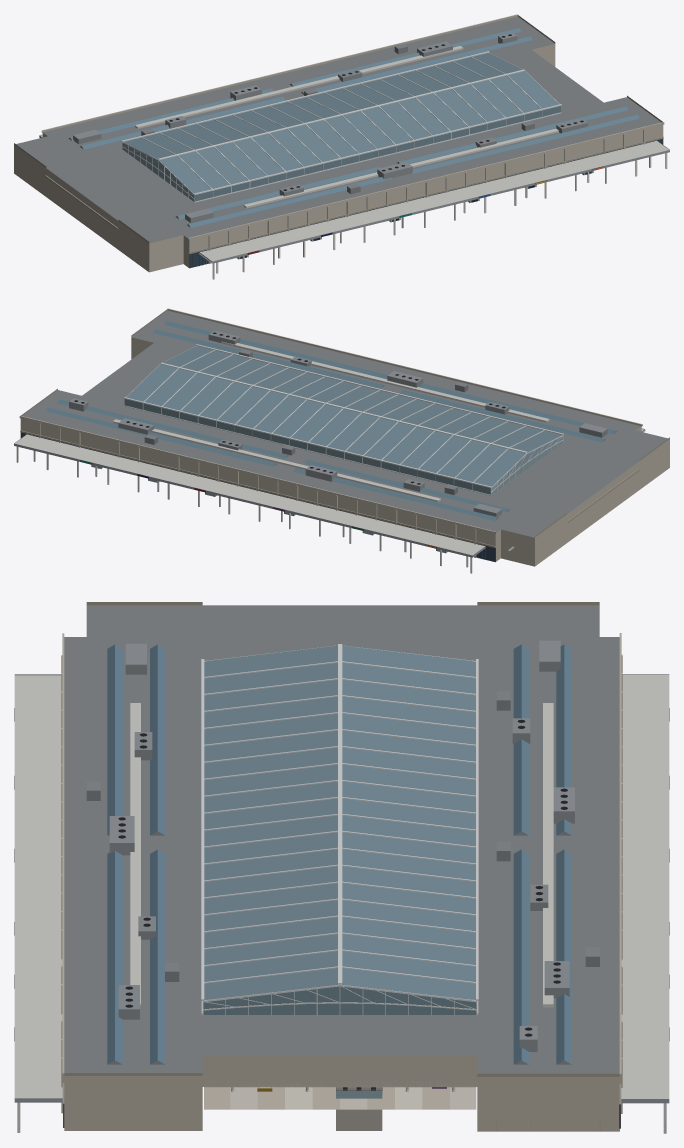
The model's file is atl-domestic-terminal.glb.
3 views of the same model, one above another, from view 1: azimuth 30°, elevation 25°; view 2: azimuth 150°, elevation 25°; view 3: azimuth 270°, elevation 25° (orthographic). The views are drawn at different scales.
Visible parts, largest first — view 1: lod1_lm_stone, lod2_lm_stone, lod0_lm_metal, lod0_bld_wall, lod2_bld_wall, lod0_lm_stone, lod0_lm_window, lod0_lm_dark; view 2: lod1_lm_stone, lod2_lm_stone, lod0_lm_metal, lod0_bld_wall, lod2_bld_wall, lod0_lm_stone, lod0_lm_window, lod0_lm_glass; view 3: lod1_lm_stone, lod2_lm_stone, lod0_lm_metal, lod0_bld_wall, lod0_lm_floor, lod0_lm_stone, lod2_bld_wall, lod0_lm_interior, lod0_lm_dark, lod0_lm_glass.
Part boxes in pixels (x1,y1,x2,y2): lod1_lm_stone: [14, 15, 667, 279]; lod2_lm_stone: [73, 46, 663, 273]; lod0_lm_metal: [40, 36, 669, 264]; lod0_bld_wall: [14, 125, 663, 272]; lod2_bld_wall: [14, 44, 663, 271]; lod0_lm_stone: [14, 14, 666, 279]; lod0_lm_window: [122, 143, 194, 201]; lod0_lm_dark: [169, 34, 602, 258]; lod1_lm_stone: [14, 310, 667, 573]; lod2_lm_stone: [21, 341, 645, 567]; lod0_lm_metal: [14, 330, 643, 561]; lod0_bld_wall: [20, 418, 669, 566]; lod2_bld_wall: [20, 337, 669, 565]; lod0_lm_stone: [17, 308, 669, 573]; lod0_lm_window: [91, 436, 562, 553]; lod0_lm_glass: [155, 329, 603, 439]; lod1_lm_stone: [14, 602, 669, 1133]; lod2_lm_stone: [125, 640, 560, 1007]; lod0_lm_metal: [14, 644, 669, 1131]; lod0_bld_wall: [64, 1055, 619, 1131]; lod0_lm_floor: [204, 1087, 476, 1109]; lod0_lm_stone: [18, 602, 665, 1133]; lod2_bld_wall: [64, 1076, 618, 1131]; lod0_lm_interior: [204, 1080, 600, 1131]; lod0_lm_dark: [14, 708, 669, 1090]; lod0_lm_glass: [158, 644, 513, 1064].
Bounding box in the file's own units: 314 × 37.6 × 184.
